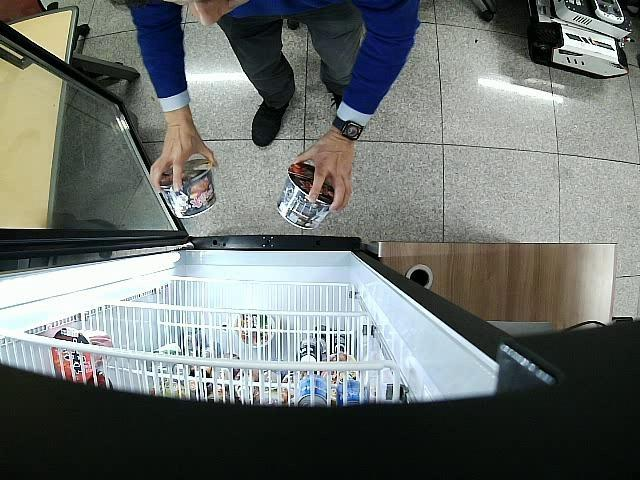07_buldak_L: (278, 163, 334, 229), (160, 159, 217, 218)
